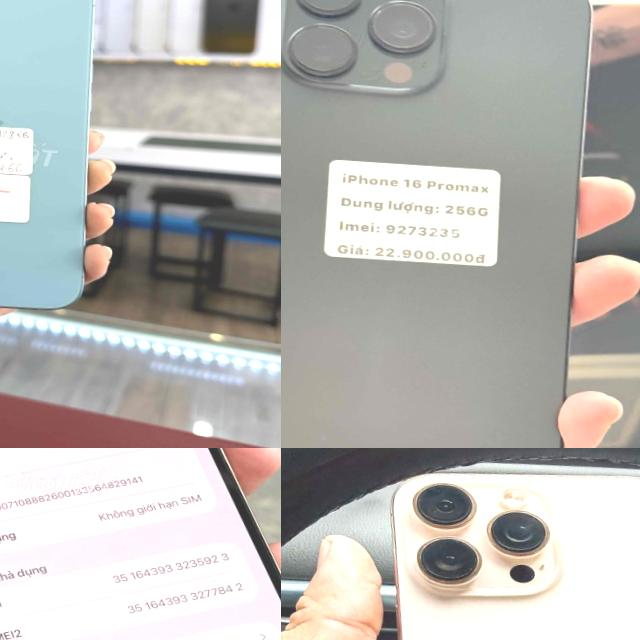gen_14: (0, 448, 281, 640)
gen_16: (281, 0, 590, 448), (391, 473, 640, 640), (0, 0, 93, 308)
